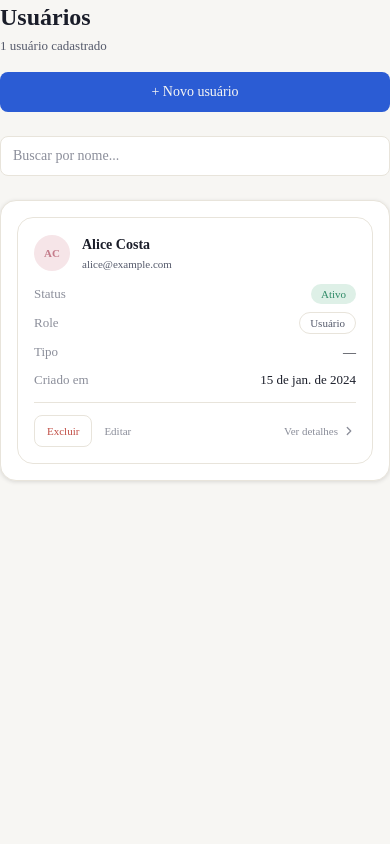
UserList (integration) › clicking delete on a mobile card opens the delete dialog
Click the button with test id "user-card-delete-button-uuid-1" at (63,431), box [34, 415, 92, 447]
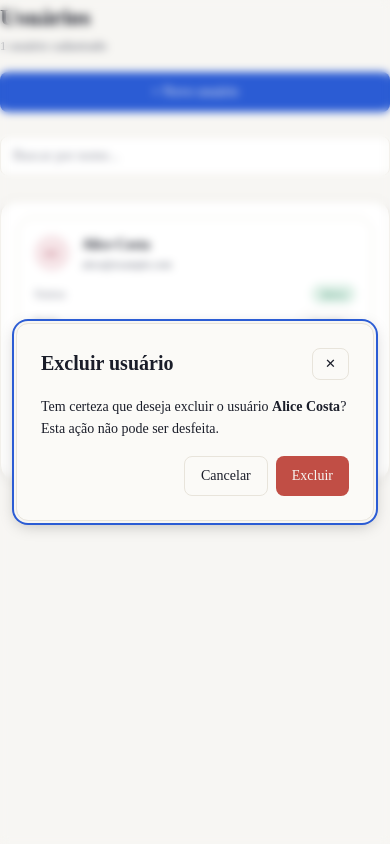
Expected: the dialog with test id "delete-user-dialog" is shown, [16, 323, 374, 521]
